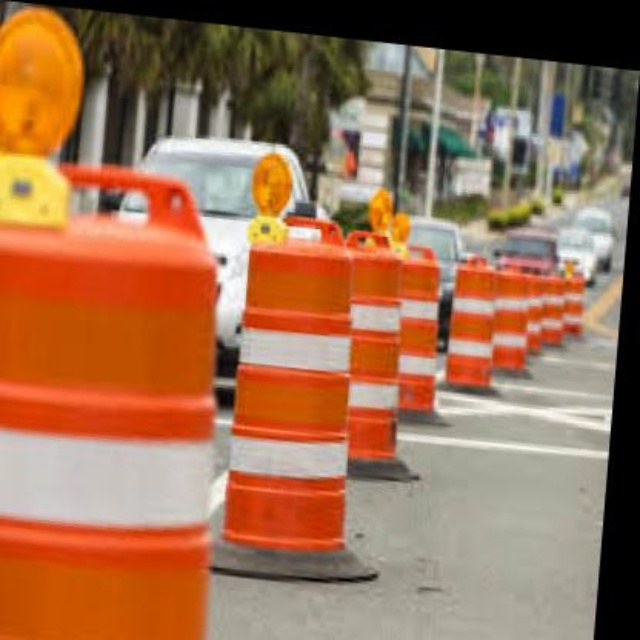obstacle: (230, 223, 378, 548)
